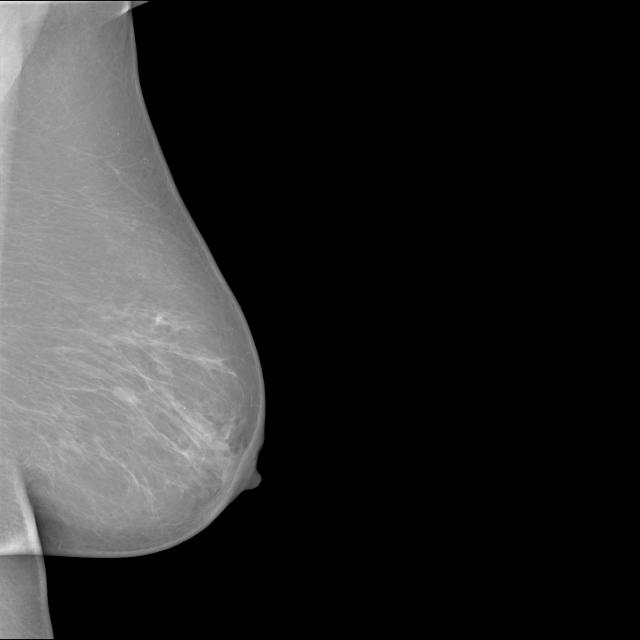Mass_1: (99, 373, 153, 416)
